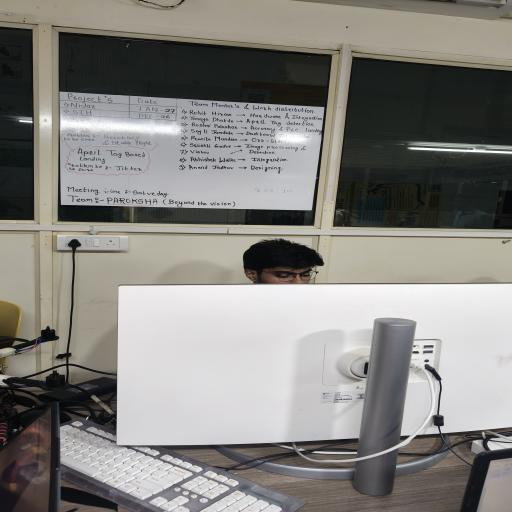survivor: (242, 238, 326, 284)
